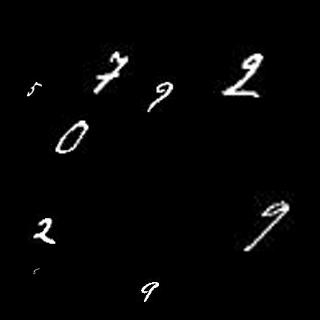five: (25, 78, 41, 97), (31, 263, 39, 274)
nine: (246, 197, 285, 249), (145, 80, 174, 111), (140, 279, 158, 300)
seven: (94, 51, 122, 93)
two: (223, 48, 270, 99), (34, 213, 60, 243)
zero: (55, 117, 86, 155)
